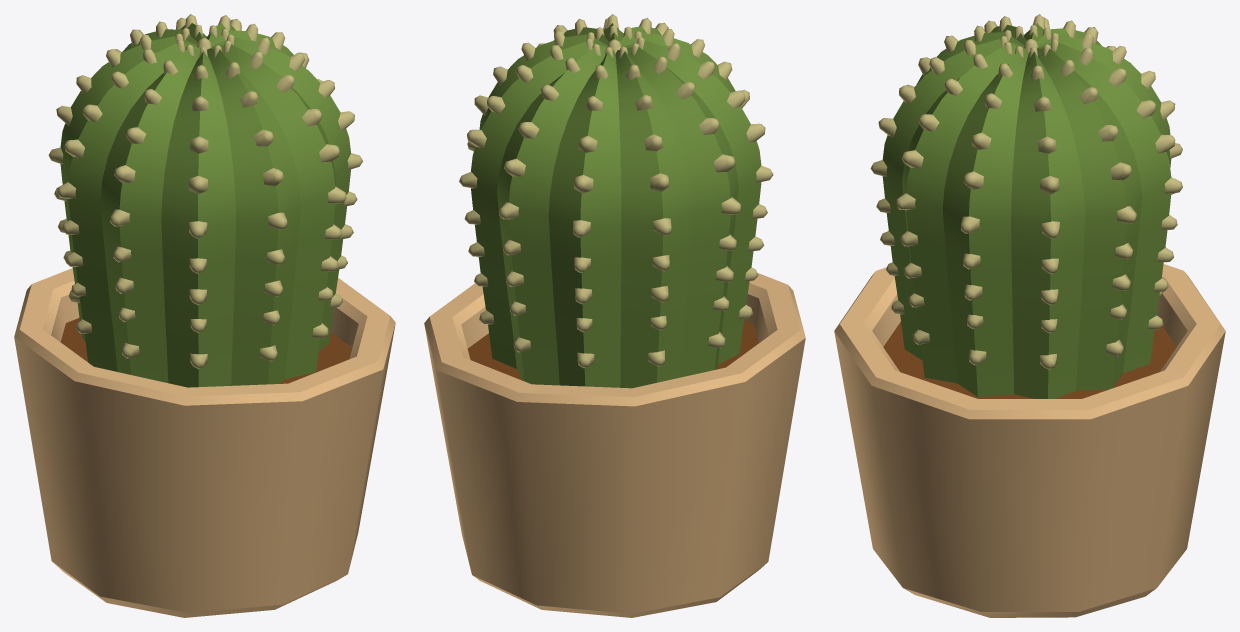
File: Plant_7.fbx
3 views of the same model, side by side, from view 1: azimuth 30°, elevation 25°; view 2: azimuth 150°, elevation 25°; view 3: azimuth 270°, elevation 25° (orthographic).
Parts seen in each view (by area): view 1: Plant_7; view 2: Plant_7; view 3: Plant_7.
Boxes of the visible parts, x1=… form: Plant_7: x1=14, y1=14, x2=395, y2=617; Plant_7: x1=424, y1=14, x2=805, y2=617; Plant_7: x1=834, y1=14, x2=1225, y2=617.
Size of the model in its own units: 0.1756 by 0.2723 by 0.185.
